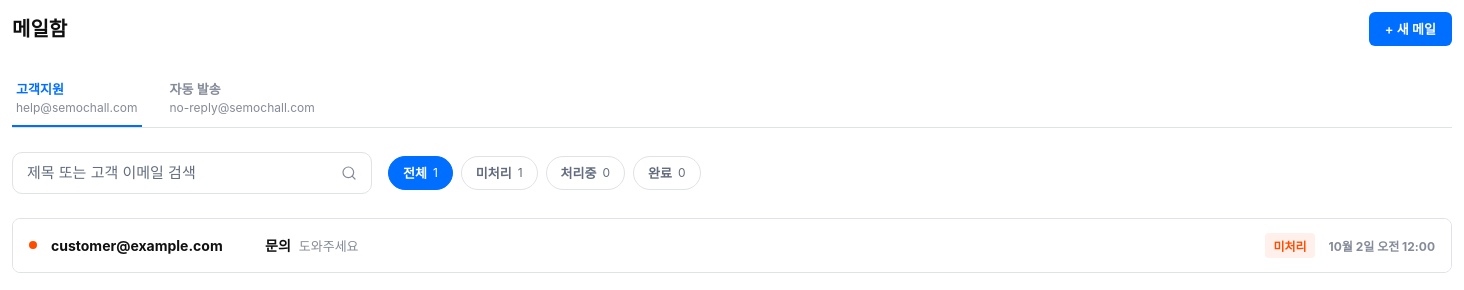
Test: AdminEmailsScreen › switches between help@ and no-reply@ mailboxes
The width and height of the screenshot is (1464, 290).
Check: the button "+ 새 메일" is shown, box [1369,12,1452,46]
Click the tab "자동 발송 no-reply@semochall.com": {"x": 242, "y": 99} [166,70,319,127]
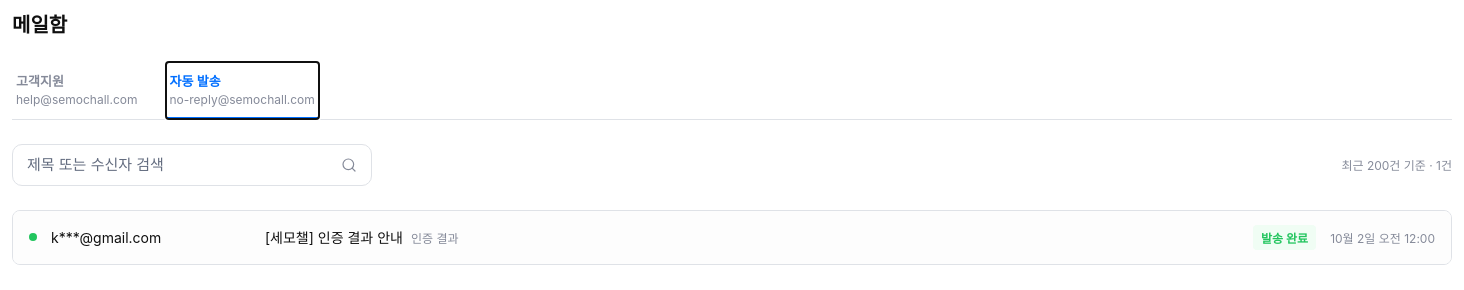
Check: the text "k***@gmail.com" is shown, box [51,229,161,246]
Check: the button "+ 새 메일" is gone
Check: the button "도와주세요" is gone
